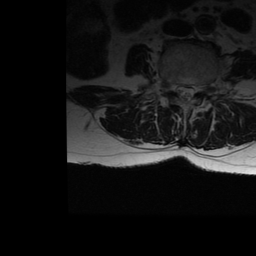CCS_normal: (181, 75, 189, 111)
LFS_normal: (197, 75, 206, 101)
LLS_normal: (189, 75, 197, 107)
RFS_normal: (166, 70, 174, 102)
RLS_normal: (174, 74, 181, 105)
